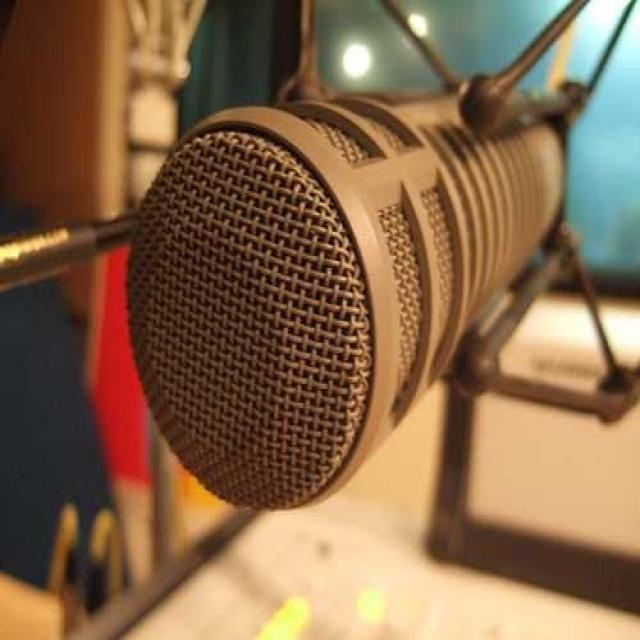microphone: (134, 2, 630, 504)
